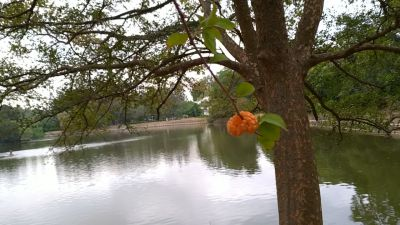eggs: (226, 109, 259, 138)
